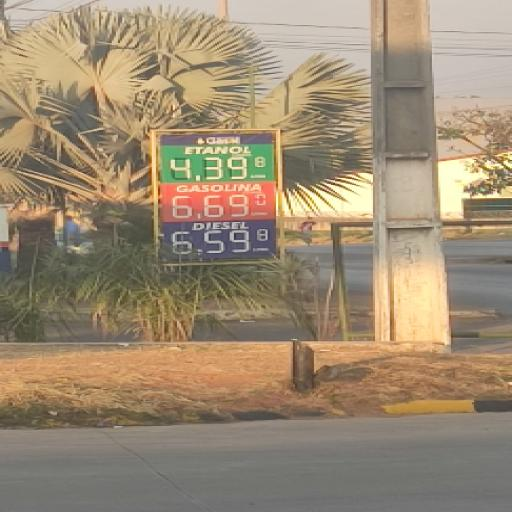ETANOL: (161, 144, 272, 157)
GASOLINA C: (161, 182, 272, 194)
S500: (161, 221, 274, 232)
placa: (151, 130, 283, 265)
preco: (162, 155, 273, 182), (167, 194, 270, 221), (168, 230, 271, 257)
